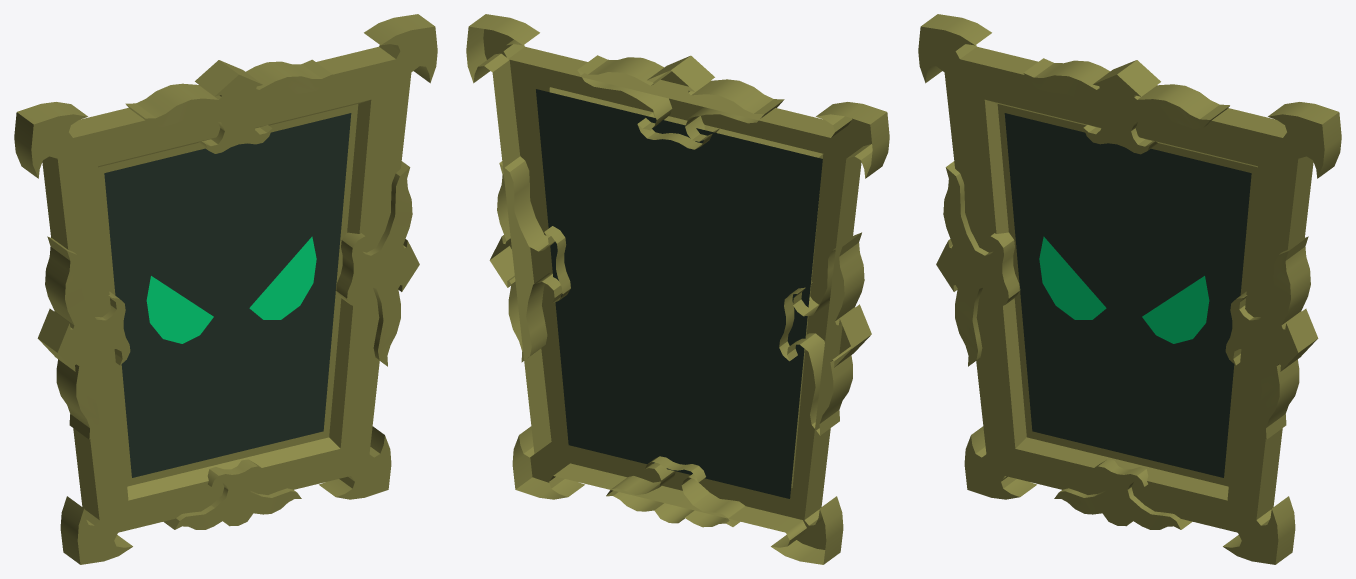
Rendered from Paint_Ghost_V1.fbx.
The picture shows the model from 3 angles, left to right: view 1: azimuth 30°, elevation 25°; view 2: azimuth 150°, elevation 25°; view 3: azimuth 330°, elevation 25°; orthographic projection.
Parts seen in each view (by area): view 1: Frame, Paint, Eyes; view 2: Paint, Frame; view 3: Frame, Paint, Eyes.
Boxes of the visible parts, <box> form: Frame: <box>14,14,437,564</box>; Paint: <box>104,113,351,477</box>; Eyes: <box>146,236,316,343</box>; Paint: <box>536,89,822,498</box>; Frame: <box>466,14,889,564</box>; Frame: <box>918,14,1341,564</box>; Paint: <box>1004,113,1251,477</box>; Eyes: <box>1039,236,1209,343</box>.
Bounding box in the file's own units: 181 × 195 × 16.78.
